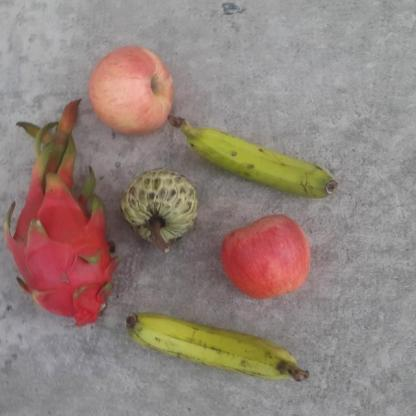annona: (120, 165, 197, 245)
apple: (219, 212, 313, 300), (88, 45, 177, 136)
banana: (168, 114, 339, 199), (124, 312, 308, 383)
pitaya: (3, 162, 122, 328)
